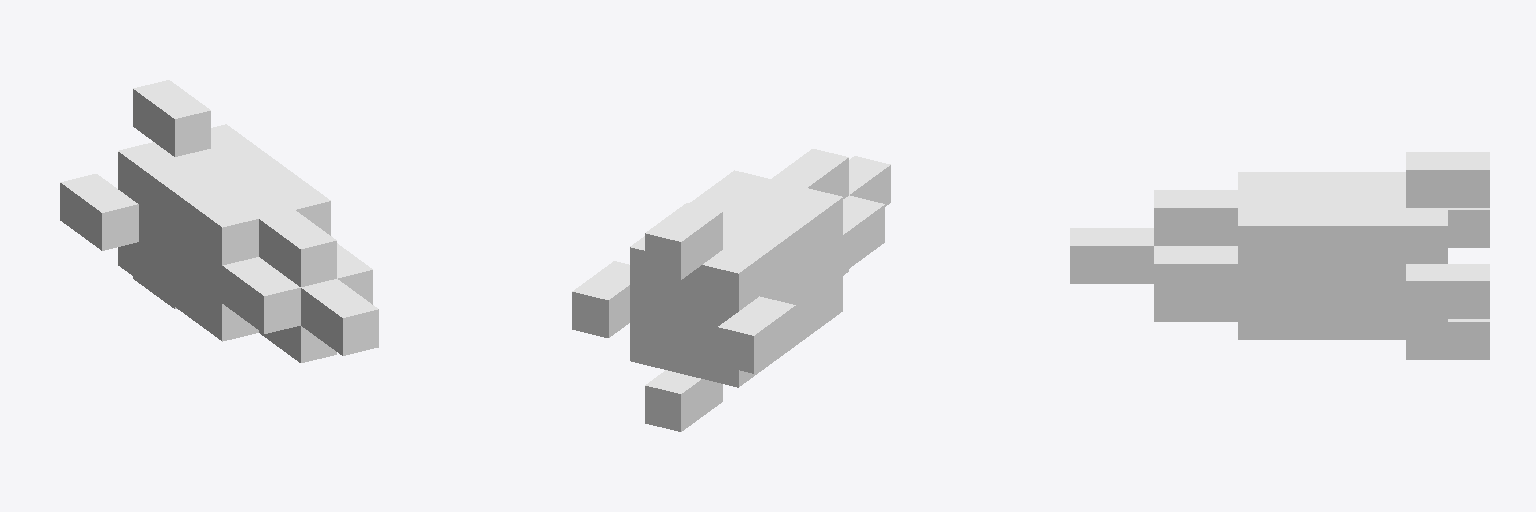
Rendered from missile.obj.
3 renders of one model, left to right at view 1: azimuth 30°, elevation 25°; view 2: azimuth 150°, elevation 25°; view 3: azimuth 270°, elevation 25°, orthographic.
Visible parts, largest first — view 1: missile; view 2: missile; view 3: missile.
Boxes of the visible parts, x1=… form: missile: x1=60, y1=80, x2=378, y2=362; missile: x1=572, y1=149, x2=890, y2=431; missile: x1=1070, y1=152, x2=1489, y2=359.
Bounding box in the file's own units: 5 × 5 × 10.